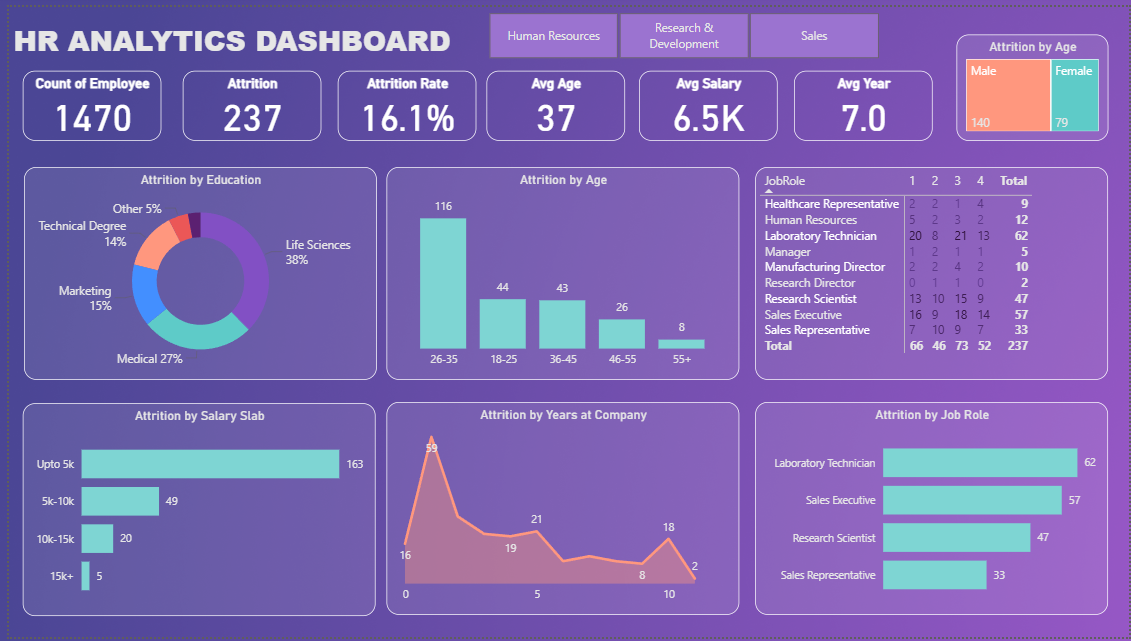

Layout of this report page (visuals, bound fields, positions):
{"tool":"powerbi","page":{"name":"Page 1","canvas":[1280,720],"ordinal":0},"visuals":[{"type":"card","title":"Count of Employee","fields":{"Values":["CountNonNull(HR_Analytics.EmpID)"]},"box":[15,73.3,158.3,80],"z":0},{"type":"card","title":"Attrition Rate","fields":{"Values":["HR_Analytics.AttritionRate"]},"box":[375,73.3,158.3,80],"z":1000},{"type":"card","title":"Avg Age","fields":{"Values":["Avg(HR_Analytics.Age)"]},"box":[545,73.3,158.3,80],"z":2000},{"type":"card","title":"Attrition","fields":{"Values":["Sum(HR_Analytics.AttritionCount)"]},"box":[198.3,73.3,158.3,80],"z":3000},{"type":"card","title":"Avg Year","fields":{"Values":["Avg(HR_Analytics.YearsAtCompany)"]},"box":[896.7,73.3,158.3,80],"z":4000},{"type":"card","title":"Avg Salary","fields":{"Values":["Avg(HR_Analytics.MonthlyIncome)"]},"box":[720,73.3,158.3,80],"z":5000},{"type":"donutChart","title":"Attrition by Education","fields":{"Category":["HR_Analytics.EducationField"],"Y":["Sum(HR_Analytics.AttritionCount)"]},"box":[16.7,183.3,403,243.3],"z":6000},{"type":"columnChart","title":"Attrition by Age","fields":{"Category":["HR_Analytics.AgeGroup"],"Y":["Sum(HR_Analytics.AttritionCount)"]},"box":[431.7,183.3,403.3,243.3],"z":7000},{"type":"pivotTable","fields":{"Rows":["HR_Analytics.JobRole"],"Columns":["HR_Analytics.JobSatisfaction"],"Values":["Sum(HR_Analytics.AttritionCount)"]},"box":[853.3,183.3,403.3,243.3],"z":8000},{"type":"barChart","title":"Attrition by Salary Slab","fields":{"Category":["HR_Analytics.SalarySlab"],"Y":["Sum(HR_Analytics.AttritionCount)"]},"box":[16.2,452.5,403,243],"z":9000},{"type":"barChart","title":"Attrition by Job Role","fields":{"Category":["HR_Analytics.JobRole"],"Y":["Sum(HR_Analytics.AttritionCount)"]},"box":[853.3,451.7,403.3,243.3],"z":10000},{"type":"areaChart","title":"Attrition by Years at Company","fields":{"Category":["HR_Analytics.YearsAtCompany"],"Y":["Sum(HR_Analytics.AttritionCount)"]},"box":[431.7,451.7,403.3,243.3],"z":11000},{"type":"treemap","title":"Attrition by Age","fields":{"Group":["HR_Analytics.Gender"],"Values":["Sum(HR_Analytics.AttritionCount)"]},"box":[1083.3,31.7,173.3,121.7],"z":12000},{"type":"textbox","box":[0,10,518.3,55],"z":13000},{"type":"slicer","fields":{"Values":["HR_Analytics.Department"]},"box":[523.3,0,495,65],"z":14000}]}

Visuals, with their boxes in screenshot pixels (x1, y1, x2, y2), scaled from the page's 1280x720 canvas onto the 1131x641 screenshot:
"Count of Employee" card: [left=13, top=65, right=153, bottom=136]
"Attrition Rate" card: [left=331, top=65, right=471, bottom=136]
"Avg Age" card: [left=482, top=65, right=621, bottom=136]
"Attrition" card: [left=175, top=65, right=315, bottom=136]
"Avg Year" card: [left=792, top=65, right=932, bottom=136]
"Avg Salary" card: [left=636, top=65, right=776, bottom=136]
"Attrition by Education" donutChart: [left=15, top=163, right=371, bottom=380]
"Attrition by Age" columnChart: [left=381, top=163, right=738, bottom=380]
pivotTable - HR_Analytics.JobRole x HR_Analytics.JobSatisfaction: [left=754, top=163, right=1110, bottom=380]
"Attrition by Salary Slab" barChart: [left=14, top=403, right=370, bottom=619]
"Attrition by Job Role" barChart: [left=754, top=402, right=1110, bottom=619]
"Attrition by Years at Company" areaChart: [left=381, top=402, right=738, bottom=619]
"Attrition by Age" treemap: [left=957, top=28, right=1110, bottom=137]
textbox: [left=0, top=9, right=458, bottom=58]
slicer - HR_Analytics.Department: [left=462, top=0, right=900, bottom=58]
